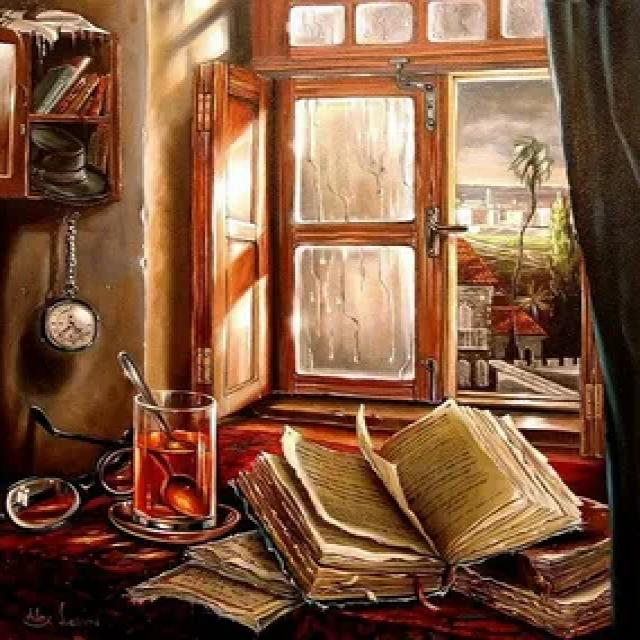book: (219, 404, 585, 614)
